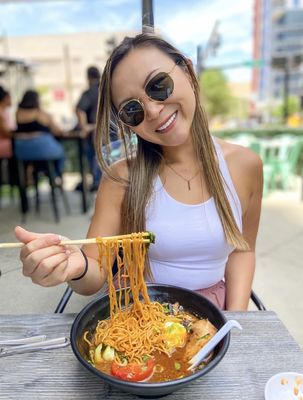sushi: (72, 282, 233, 392)
